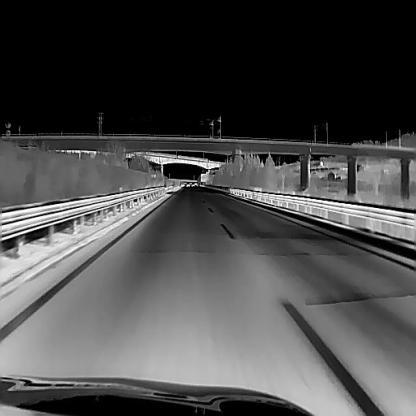car: (185, 180, 190, 187)
